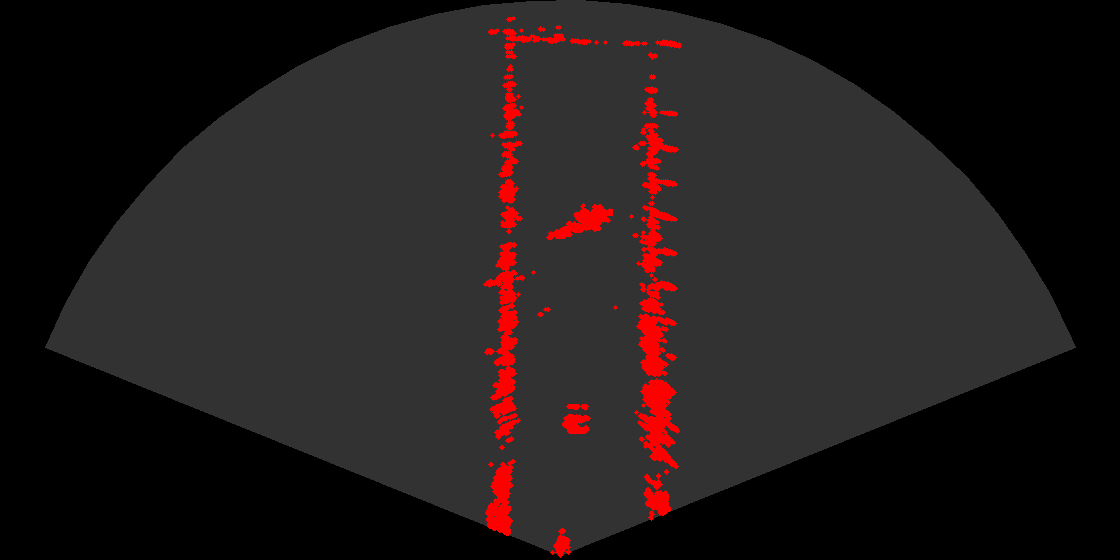ball: (542, 396, 602, 437)
frogman: (545, 197, 613, 244)
